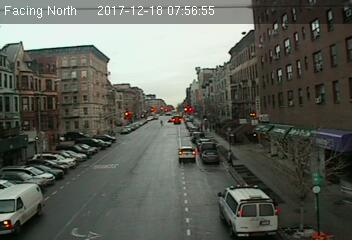car: (178, 145, 196, 161), (202, 150, 218, 162)
police: (215, 182, 281, 236)
